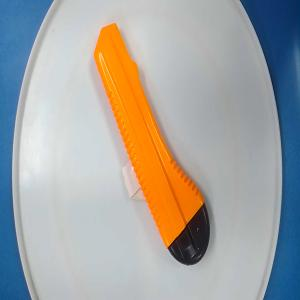estilete: (94, 23, 210, 266)
